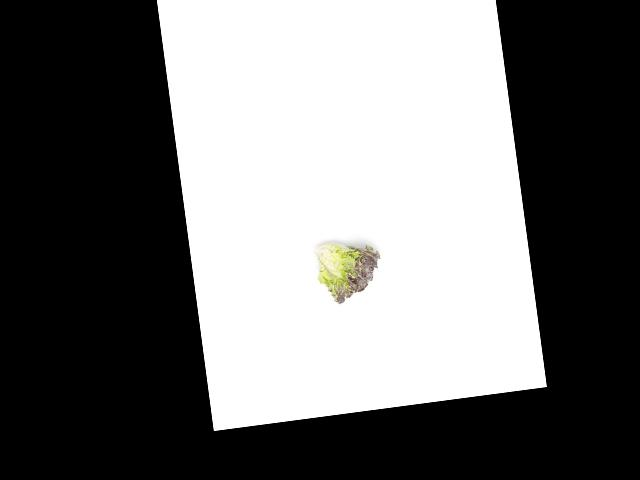lettuce: (310, 235, 389, 305)
